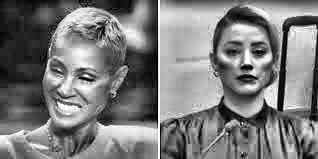sad: (213, 7, 286, 97)
